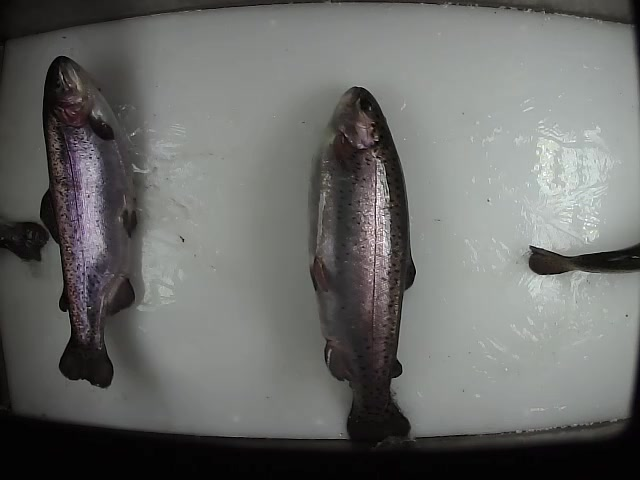fish: (305, 84, 415, 448), (37, 52, 140, 391), (527, 238, 640, 279)
